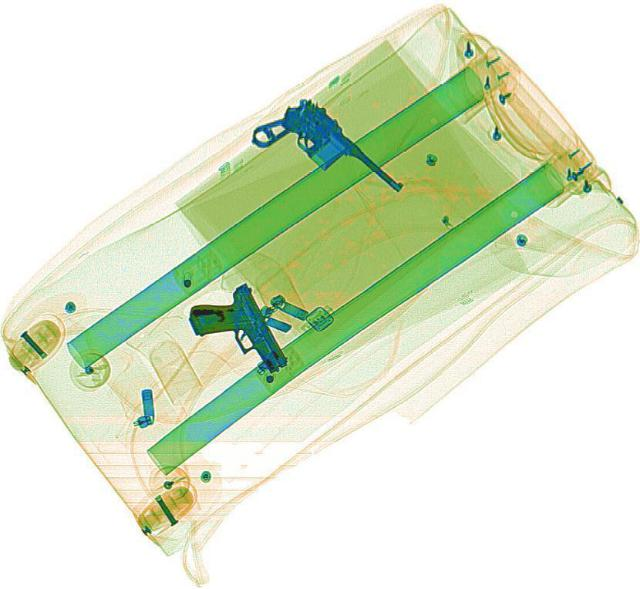Gun: (244, 89, 404, 228), (177, 278, 291, 389)
